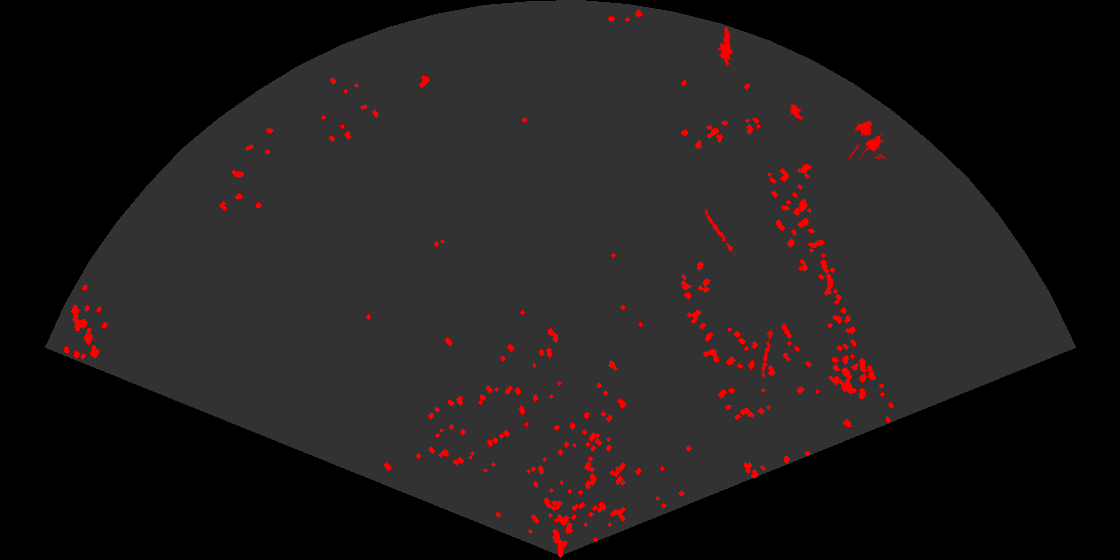AUV: (784, 102, 805, 124)
cage: (846, 119, 888, 159)
chain: (703, 207, 737, 256), (760, 328, 775, 379)
frogman: (716, 25, 735, 65)
